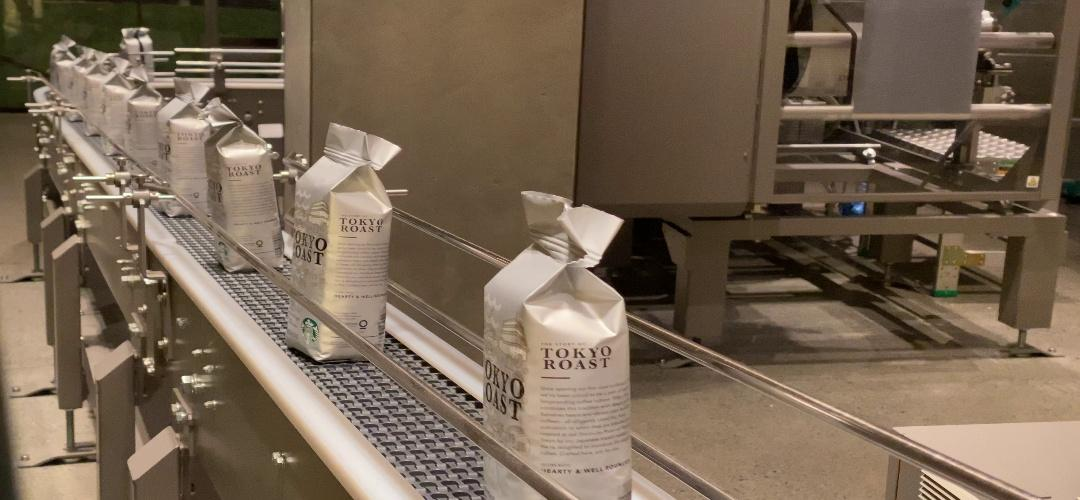conveyor: (483, 285, 628, 438), (294, 183, 391, 280), (200, 144, 282, 216)
